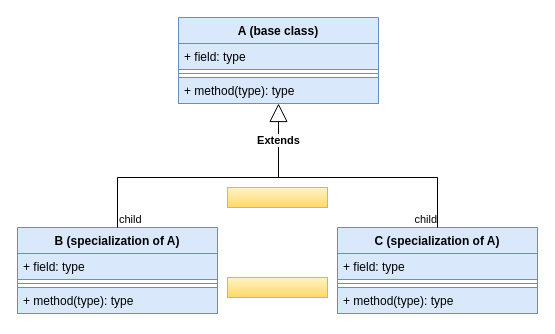
Some shapes in this 555 by 334 pixel diagram are drawn without their labels. Here are the shapes that lost their labels. From the top down, the centre of each, then its label:
the point at 277,197: Generalization
the point at 277,287: Specializations
